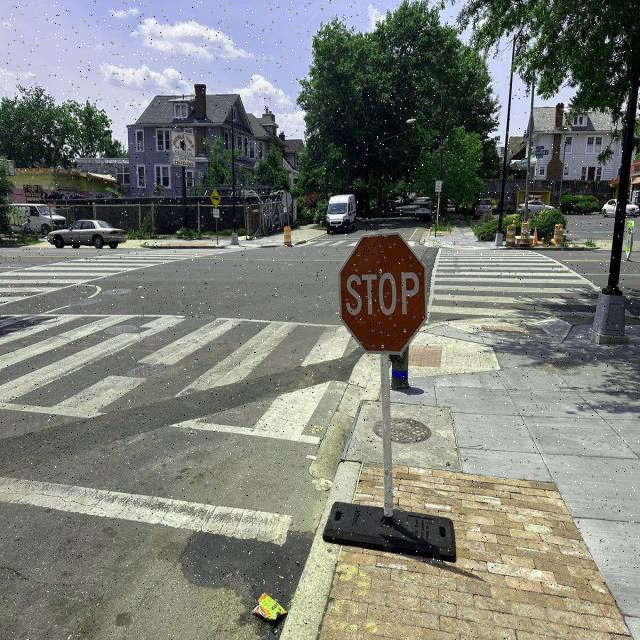stop: (332, 240, 427, 358)
